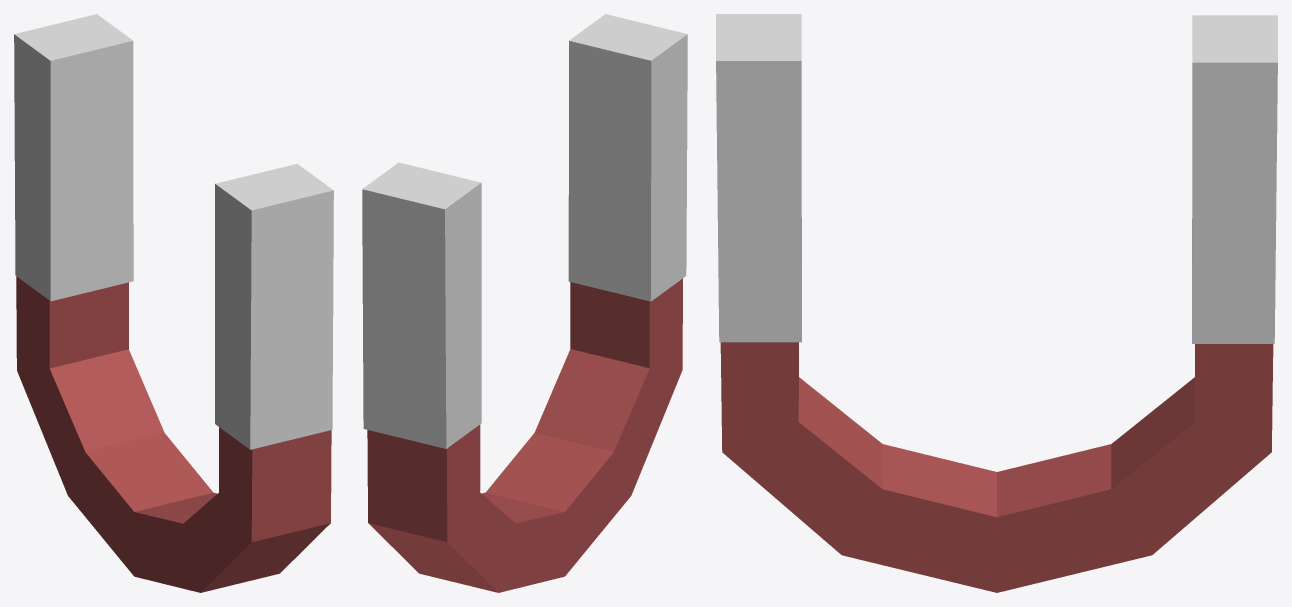
The model's file is magnet.fbx.
3 views of the same model, side by side, from view 1: azimuth 30°, elevation 25°; view 2: azimuth 150°, elevation 25°; view 3: azimuth 270°, elevation 25° (orthographic). The views are drawn at different scales.
Parts seen in each view (by area): view 1: Cube.018, Cube.020; view 2: Cube.018, Cube.020; view 3: Cube.020, Cube.018.
Boxes of the visible parts, left/top/right/bottom form: Cube.018: left=14, top=14, right=333, bottom=449; Cube.020: left=16, top=276, right=331, bottom=592; Cube.018: left=362, top=14, right=687, bottom=448; Cube.020: left=367, top=278, right=682, bottom=592; Cube.020: left=720, top=342, right=1273, bottom=592; Cube.018: left=716, top=14, right=1277, bottom=343.
Size of the model in its own units: 37.09 by 189 by 181.
